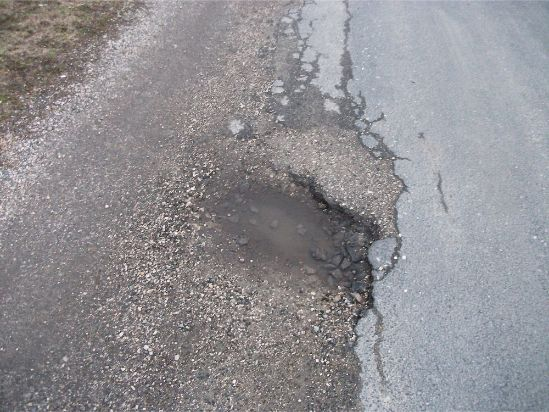pothole: (176, 140, 405, 306)
